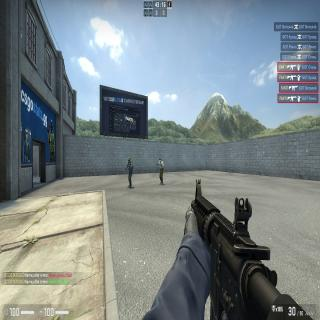CT-Body: (127, 156, 133, 188)
CT-Head: (128, 156, 130, 162)
T-Body: (158, 158, 164, 184)
T-Head: (160, 158, 162, 162)
